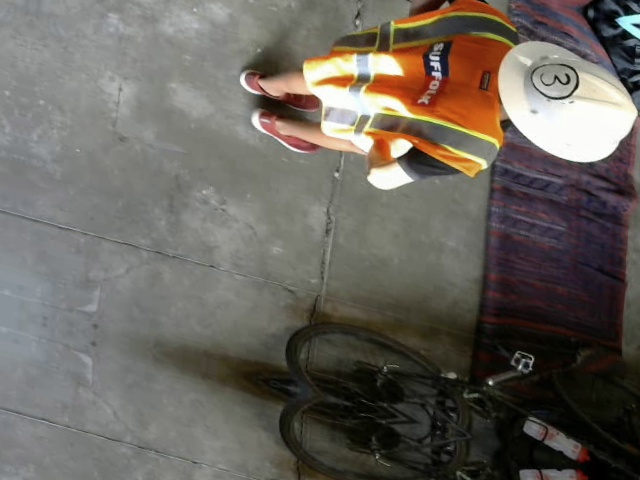three: (528, 54, 579, 106)
